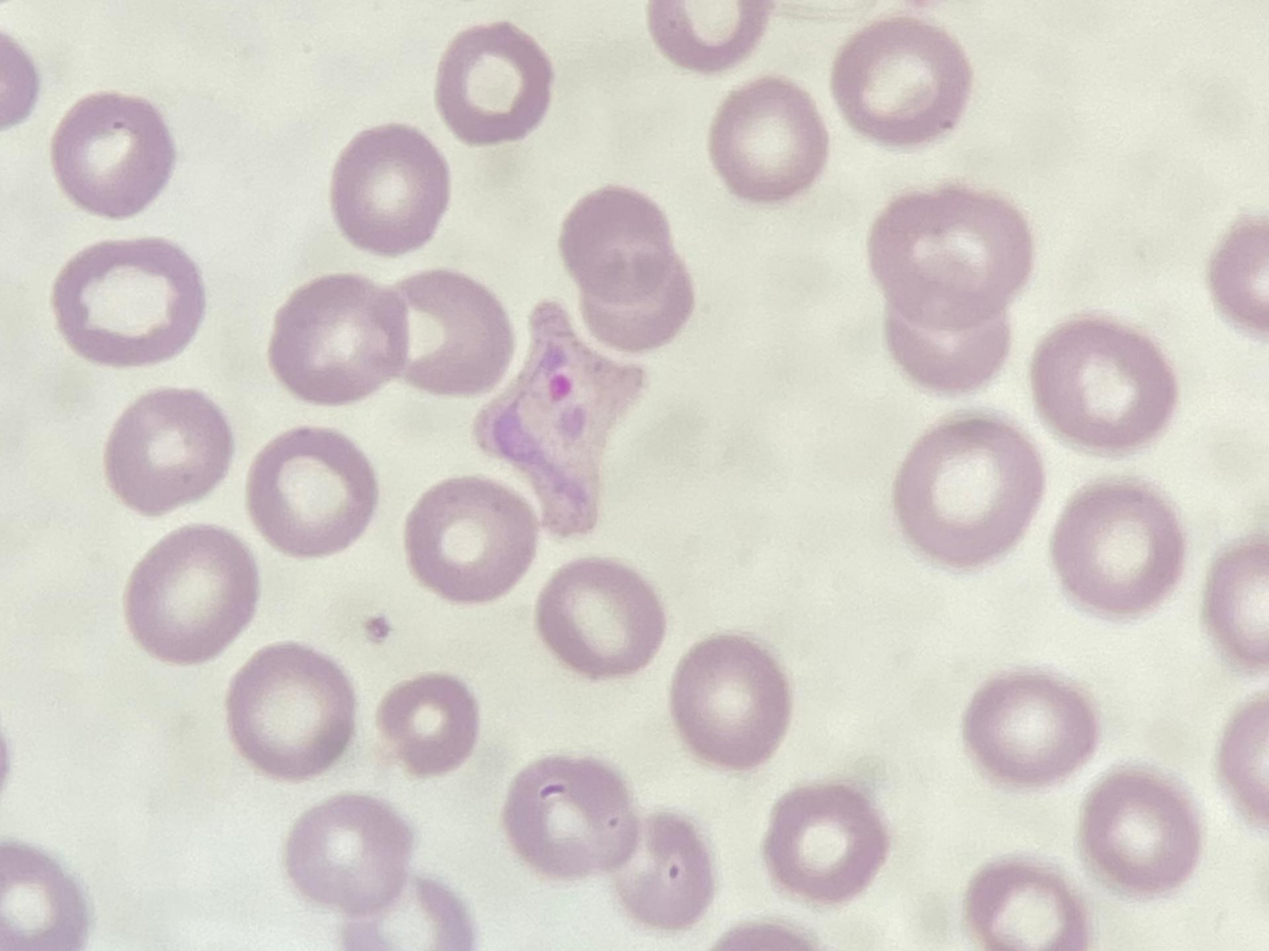Infected: (473, 301, 652, 539)
Uninfected: (866, 184, 1036, 326), (894, 415, 1050, 567), (53, 237, 206, 370), (1033, 314, 1177, 452), (271, 270, 412, 408), (124, 524, 257, 666), (375, 267, 516, 399), (1051, 479, 1188, 614), (832, 17, 974, 147), (228, 640, 358, 782), (251, 423, 379, 559), (405, 475, 537, 606), (286, 788, 412, 921), (51, 90, 178, 218), (504, 754, 635, 877), (960, 671, 1100, 786), (762, 785, 893, 907), (535, 560, 668, 679), (106, 389, 233, 512), (1081, 765, 1202, 894), (334, 126, 451, 259), (676, 633, 790, 769), (894, 276, 1017, 400), (435, 20, 555, 147), (558, 185, 676, 308), (712, 78, 826, 201), (606, 808, 714, 931), (580, 245, 699, 355), (965, 856, 1090, 951), (373, 673, 478, 777), (644, 0, 773, 75)
